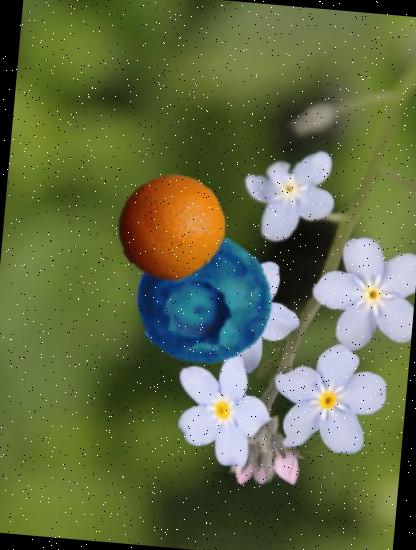Huckleberry: (133, 230, 278, 376)
Orange: (112, 168, 230, 285)
